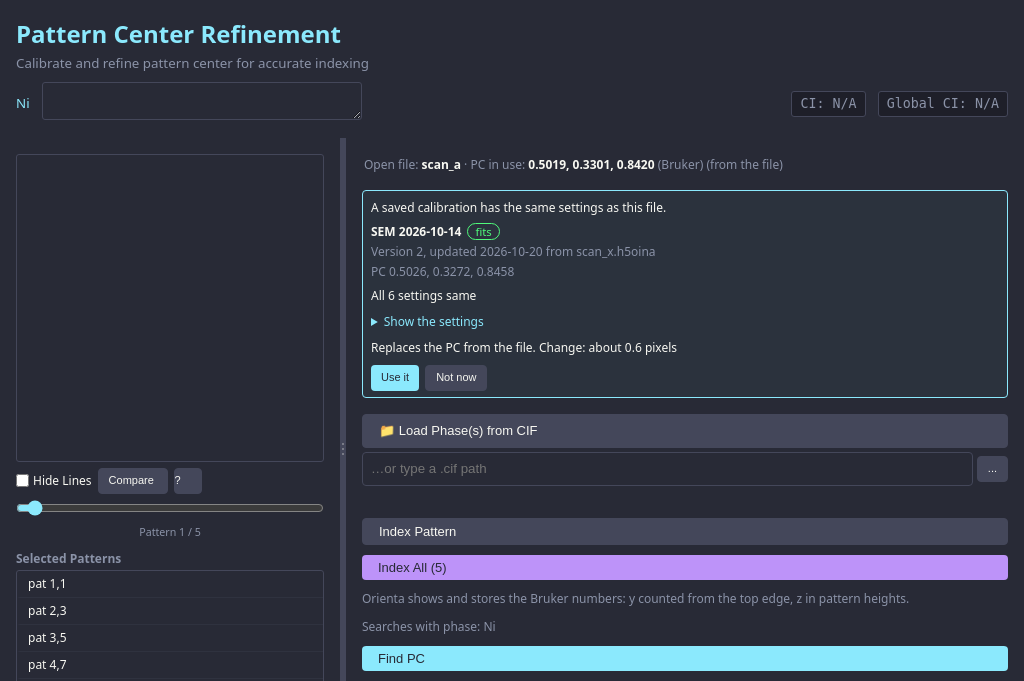
Save and Apply after a saved calibration was used › "Use it" refused because the calibration file is held says so, and the page asks the backend for its PC again
Click the button "Use it".
click(395, 378)  # box [371,365,419,391]
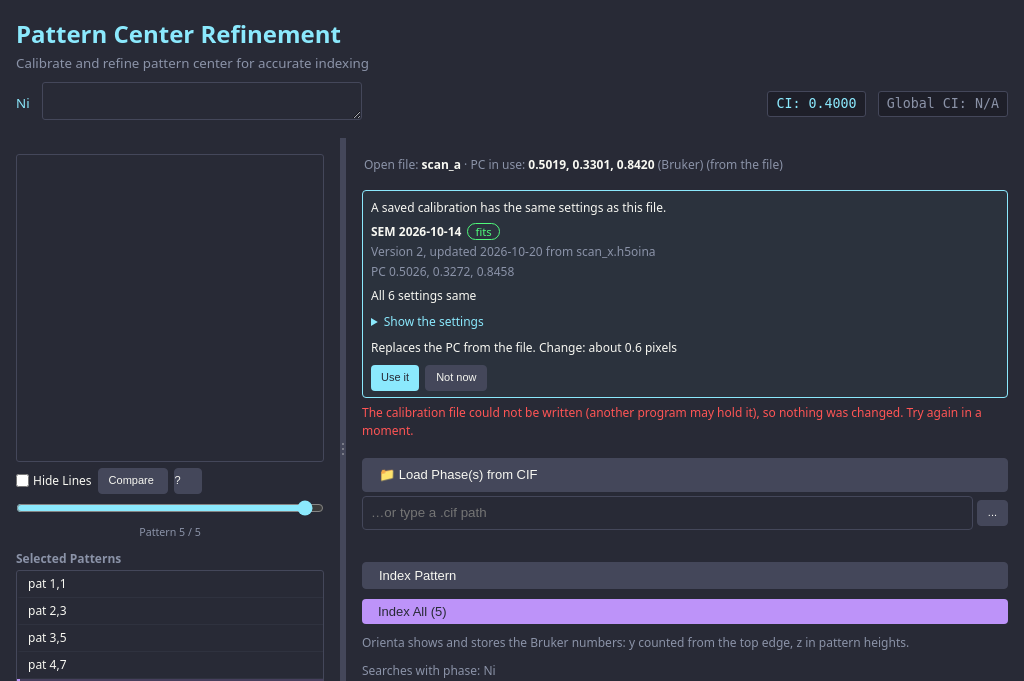
Check: the text "calibration file could not be written" is shown, box [362,404,982,439]
